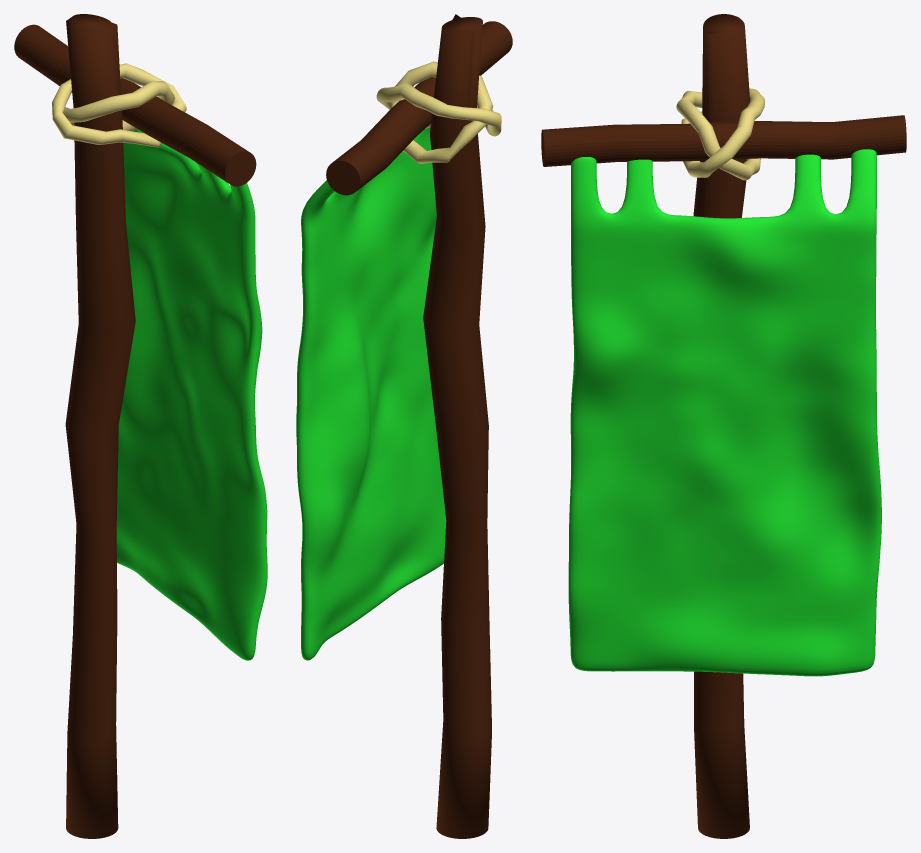
File: estandarte.fbx
3 renders of one model, left to right at view 1: azimuth 30°, elevation 25°; view 2: azimuth 150°, elevation 25°; view 3: azimuth 270°, elevation 25°, orthographic.
Visible parts, largest first — view 1: Plane, Cylinder, Cylinder.001, Cylinder.003, Cylinder.002; view 2: Plane, Cylinder, Cylinder.001, Cylinder.002, Cylinder.003; view 3: Plane, Cylinder, Cylinder.001, Cylinder.003, Cylinder.002.
Part boxes in pixels (<box>): Plane: <box>116,129,267,660</box>; Cylinder: <box>65,14,135,838</box>; Cylinder.001: <box>14,24,256,186</box>; Cylinder.003: <box>52,63,186,147</box>; Cylinder.002: <box>63,81,174,131</box>; Plane: <box>296,127,446,660</box>; Cylinder: <box>423,14,491,838</box>; Cylinder.001: <box>326,21,512,195</box>; Cylinder.002: <box>390,61,492,163</box>; Cylinder.003: <box>376,83,501,136</box>; Plane: <box>568,149,881,676</box>; Cylinder: <box>693,14,749,838</box>; Cylinder.001: <box>541,115,906,166</box>; Cylinder.003: <box>681,88,764,177</box>; Cylinder.002: <box>676,90,760,180</box>.
Size of the model in its own units: 31.53 by 171 by 70.23.
